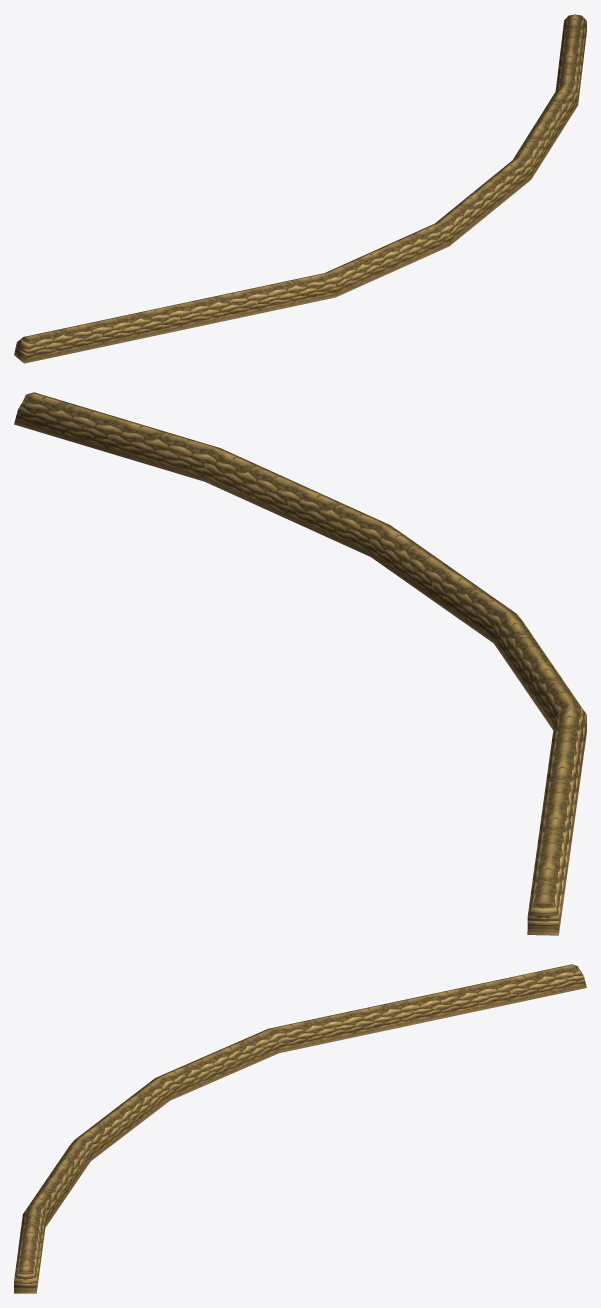
The model's file is M8_Zone1_Sandbags1.glb.
The picture shows the model from 3 angles, top to bottom: view 1: azimuth 90°, elevation 25°; view 2: azimuth 150°, elevation 25°; view 3: azimuth 270°, elevation 25°; orthographic projection. The views are drawn at different scales.
Parts seen in each view (by area): view 1: M8_ZONE1_SANDBAGS1; view 2: M8_ZONE1_SANDBAGS1; view 3: M8_ZONE1_SANDBAGS1.
Boxes of the visible parts, x1,y1,x2,y2 form: M8_ZONE1_SANDBAGS1: (14,14,586,363); M8_ZONE1_SANDBAGS1: (14,392,586,935); M8_ZONE1_SANDBAGS1: (14,964,586,1293).
Size of the model in its own units: 16.86 by 0.716 by 12.62.
Materials: 1 (1 with a texture image).
